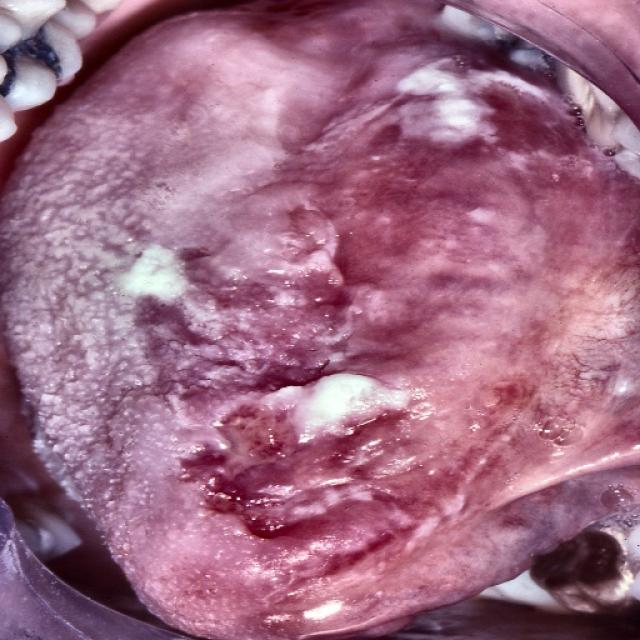cancer-detection: (130, 39, 639, 635)
processing_area: (0, 3, 639, 639)
